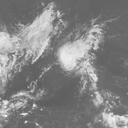cyclone: (57, 40, 93, 73)
